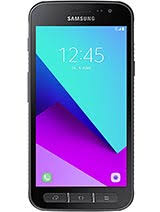samsung: (25, 1, 135, 212)
